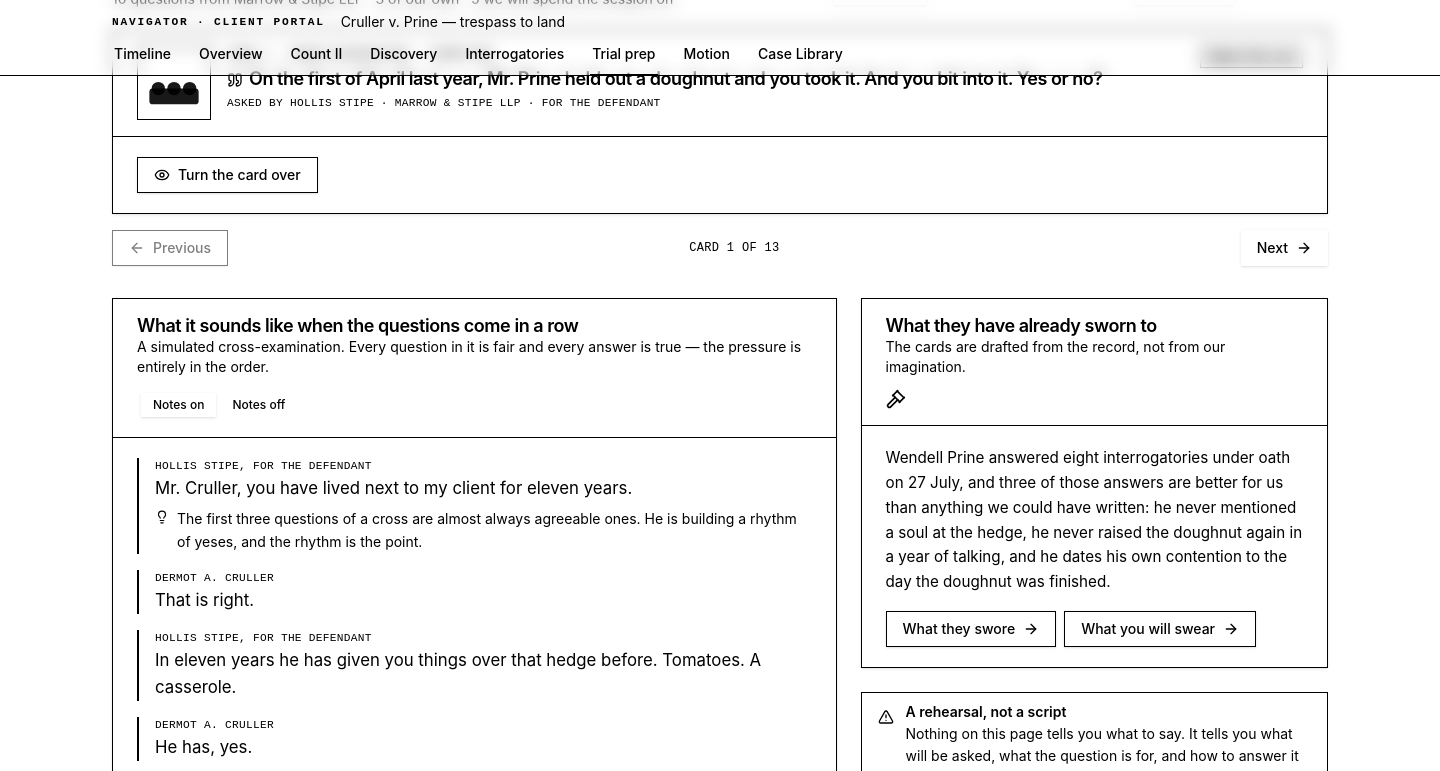
Test: the trial preparation page › plays the examination out in order, and can drop the coaching notes
The width and height of the screenshot is (1440, 771).
(page scrolled)
Expected: the text "Mr. Cruller, you have lived next to my client for eleven years." is shown, [155,478,632,498]
Expected: the text "That is right." is shown, [155,590,254,610]
Click the radio button labelled "Notes off": (259, 405) [220,393,297,417]
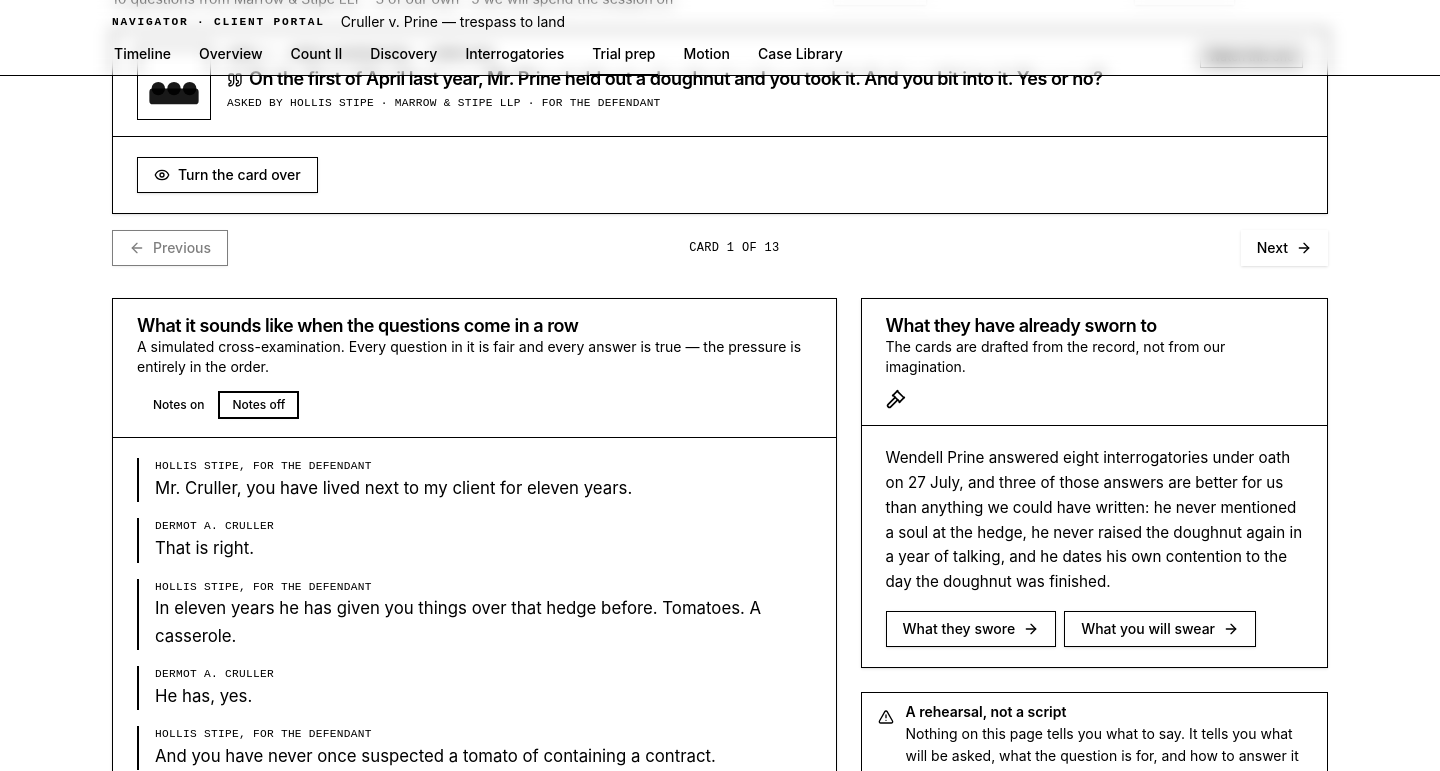
Expected: the text "Mr. Cruller, you have lived next to my client for eleven years." is shown, [155,478,632,498]
Result: the text "The first three questions of a cross are almost always agreeable ones. He is building a rhythm of yeses, and the rhythm " is gone
